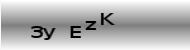3: (29, 24, 44, 39)
E: (69, 24, 82, 40)
K: (99, 11, 114, 27)
y: (41, 26, 56, 40)
z: (84, 19, 96, 32)
